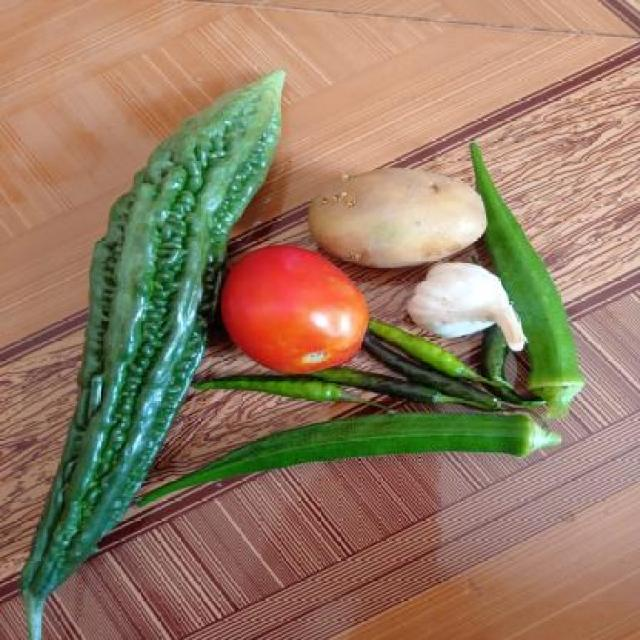Bitter melon: (88, 95, 254, 572)
Garlic: (403, 260, 511, 343)
Green Chili: (269, 354, 488, 412)
Lady finger: (154, 416, 548, 512)
Potato: (300, 174, 494, 263)
Tomato: (216, 244, 382, 370)
